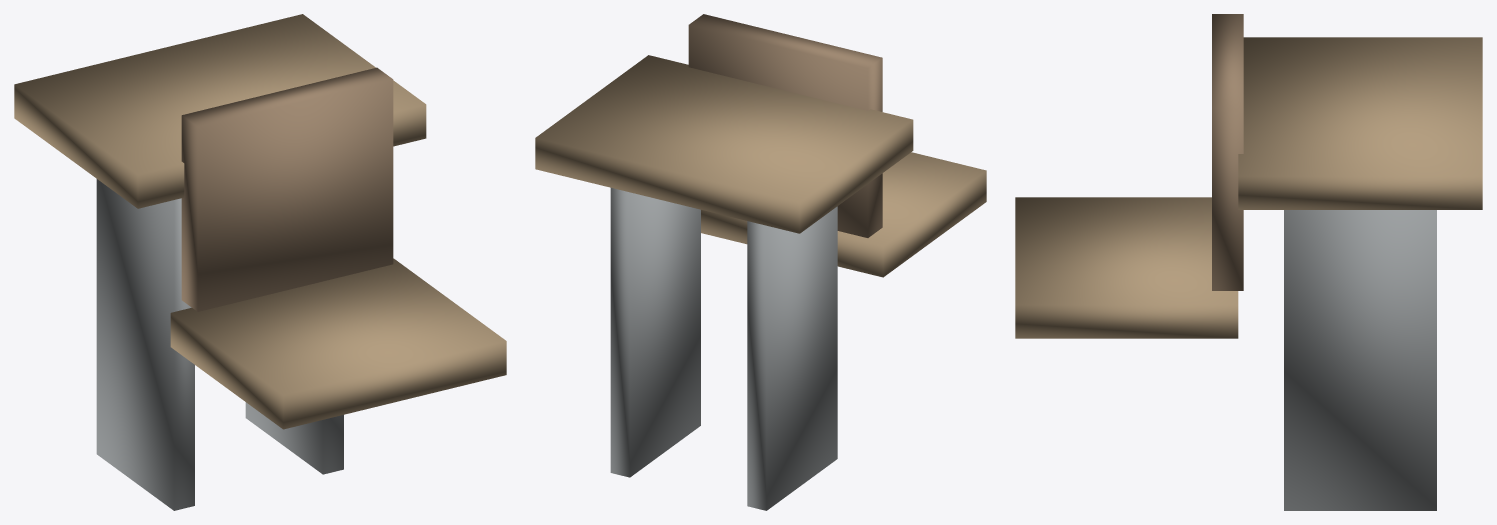
The model's file is classroom_desk.glb.
The picture shows the model from 3 angles, left to right: view 1: azimuth 30°, elevation 25°; view 2: azimuth 150°, elevation 25°; view 3: azimuth 270°, elevation 25°; orthographic projection. The views are drawn at different scales.
Visible parts, largest first — view 1: world; view 2: world; view 3: world.
Boxes of the visible parts, <box> form: world: <box>14,14,506,510</box>; world: <box>535,14,986,510</box>; world: <box>1015,14,1482,510</box>.
Bounding box in the file's own units: 0.62 × 0.85 × 0.88.
